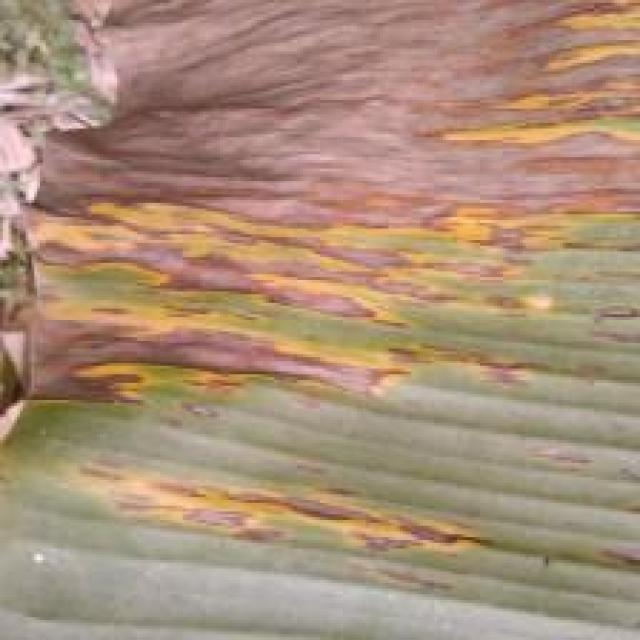Early_leaf_spot: (0, 0, 640, 609), (58, 400, 640, 595)
